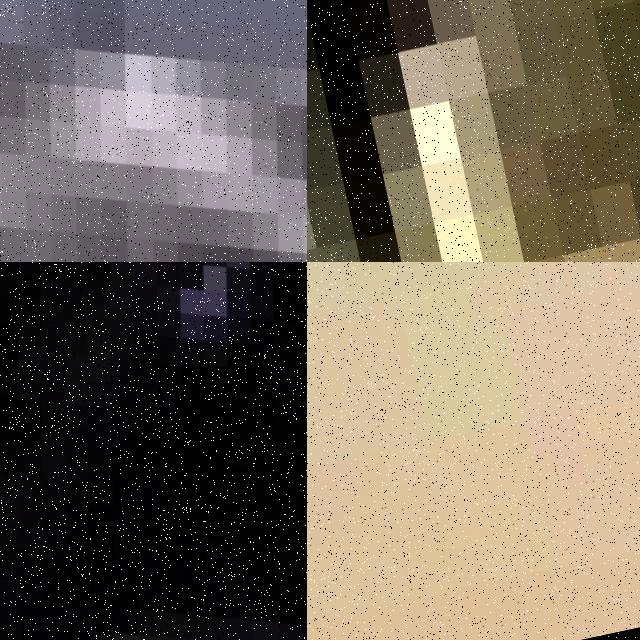0: (0, 0, 307, 262)
drone: (0, 262, 307, 640)
